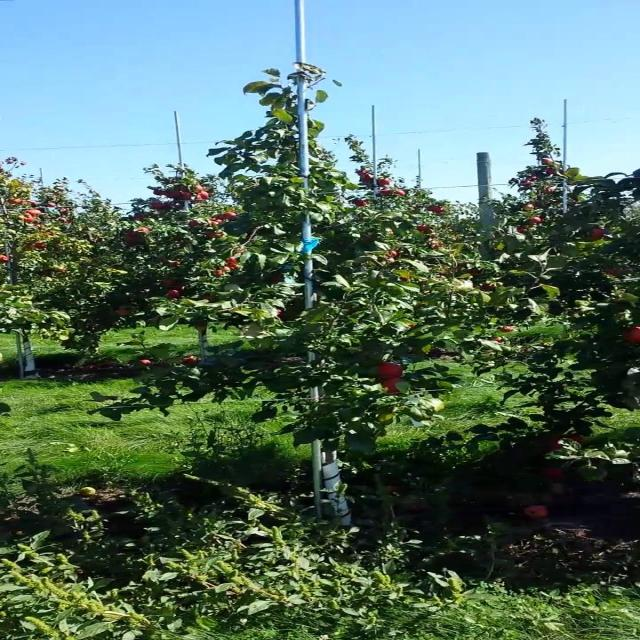apple: (383, 364, 405, 377), (625, 328, 639, 344), (383, 380, 398, 394), (547, 468, 564, 479), (589, 228, 604, 240), (604, 268, 626, 276), (184, 356, 199, 365), (554, 440, 564, 451), (575, 436, 583, 444)
